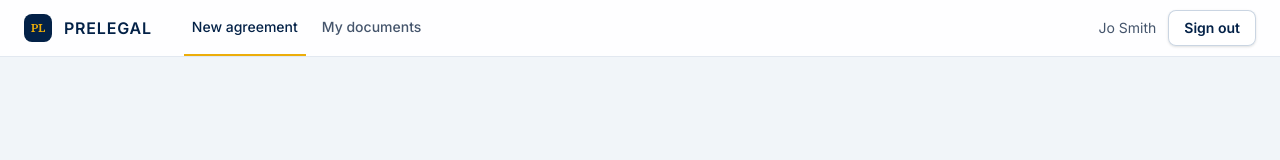
Test: AppHeader › saves the last changes, then signs the user out
Click the button "Sign out". click: x=1212, y=28
box: x1=1168 y1=10 x2=1256 y2=46
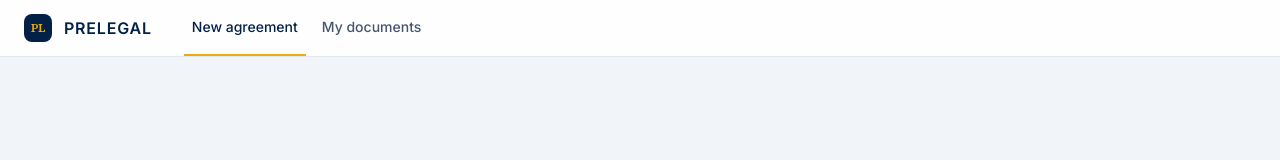
expect the text "Jo Smith" is gone: met
